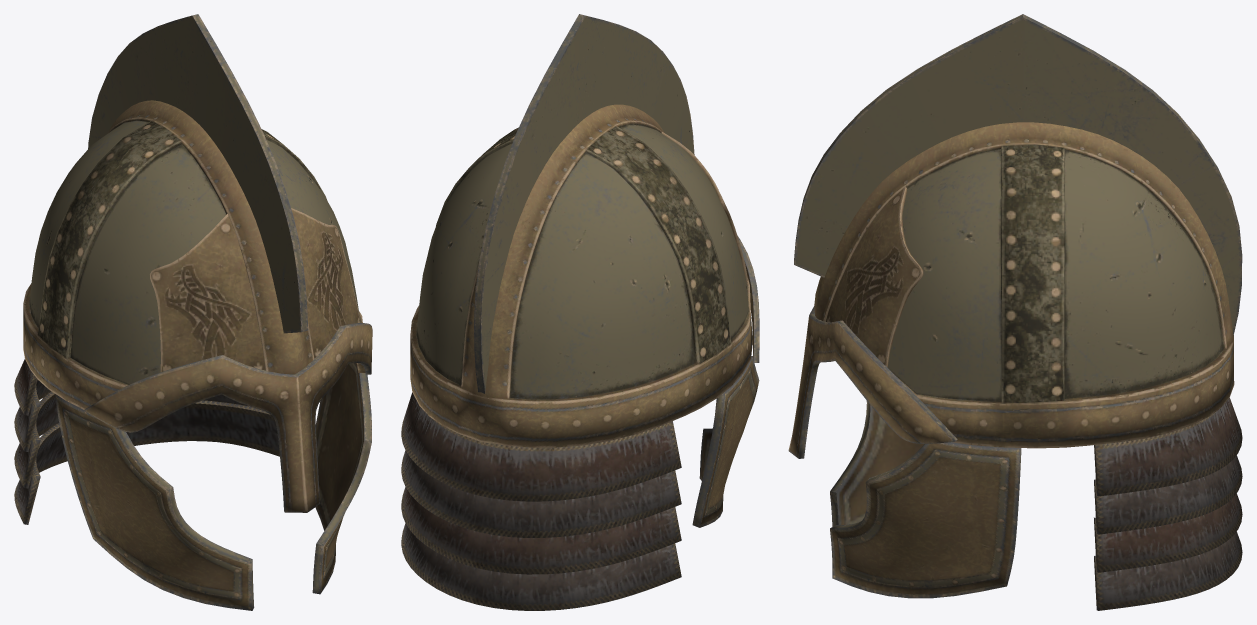
Rendered from dunland_wulf_helmet_elite_b.fbx.
3 renders of one model, left to right at view 1: azimuth 30°, elevation 25°; view 2: azimuth 150°, elevation 25°; view 3: azimuth 270°, elevation 25°, orthographic. The views are drawn at different scales.
Visible parts, largest first — view 1: dunland_wulf_helmet_elite_b; view 2: dunland_wulf_helmet_elite_b; view 3: dunland_wulf_helmet_elite_b.
Boxes of the visible parts, x1,y1,x2,y2 form: dunland_wulf_helmet_elite_b: [14, 14, 372, 610]; dunland_wulf_helmet_elite_b: [401, 14, 759, 610]; dunland_wulf_helmet_elite_b: [788, 14, 1242, 610].
Bounding box in the file's own units: 0.2073 × 0.2697 × 0.3574.
Materials: 1 (1 with a texture image).
